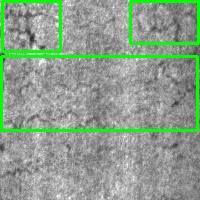crazing: (1, 56, 197, 130), (2, 1, 60, 51), (130, 1, 198, 43)
